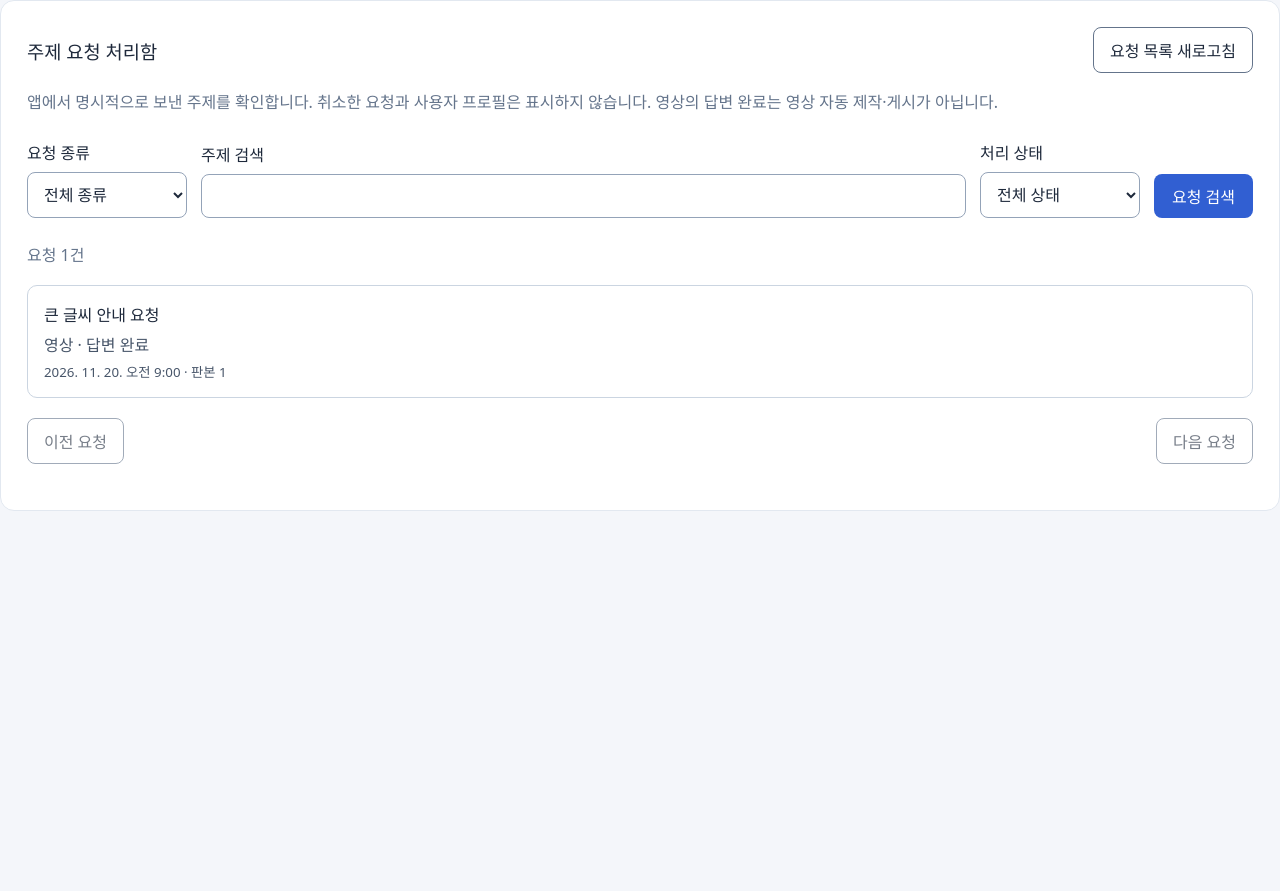
Scenario: 최종 결정 변경은 검토 중으로 먼저 되돌리도록 안내한다
The width and height of the screenshot is (1280, 891).
Click the button "큰 글씨 안내 요청".
click(102, 315)  # box [27,285,1253,398]
(page scrolled)
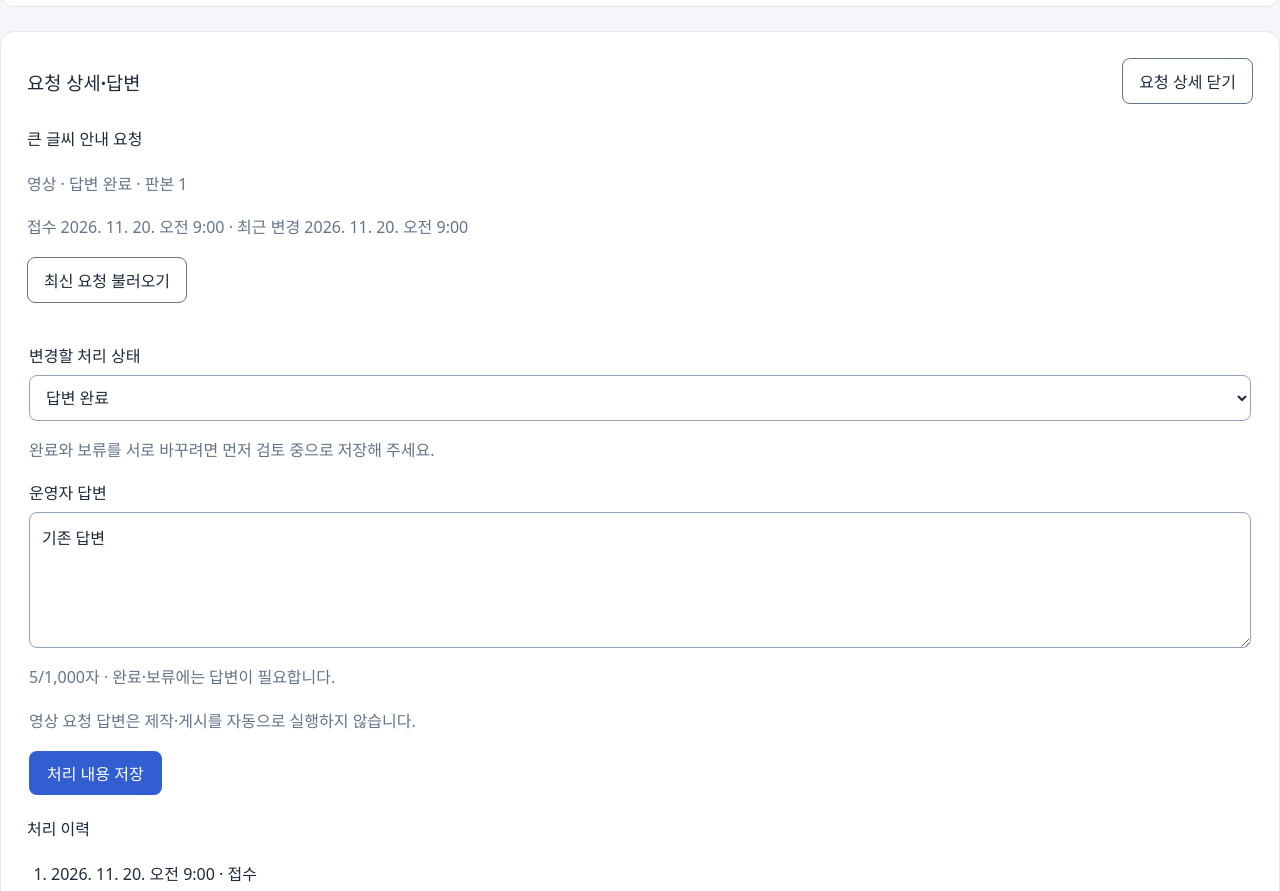
Result: the text box labelled "운영자 답변" is shown at [29,512,1251,648]
Result: the text "완료와 보류를 서로 바꾸려면 먼저 검토 중으로 저장해 주세요." is shown at [29,439,435,461]
